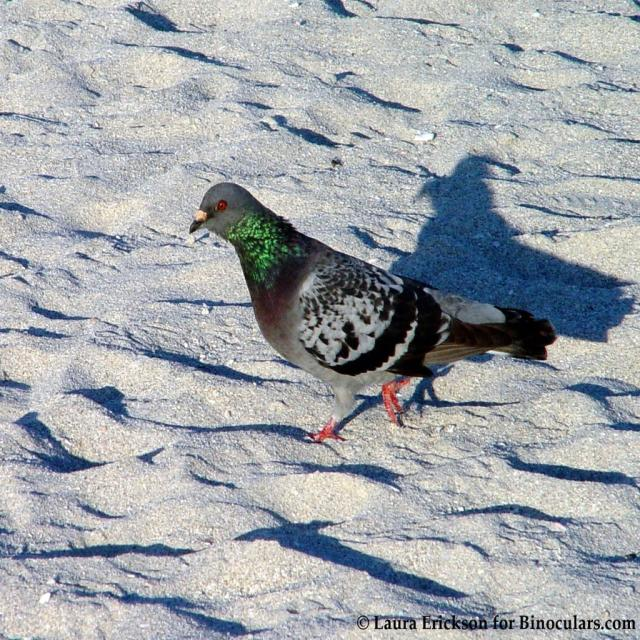bird: (174, 178, 558, 440)
